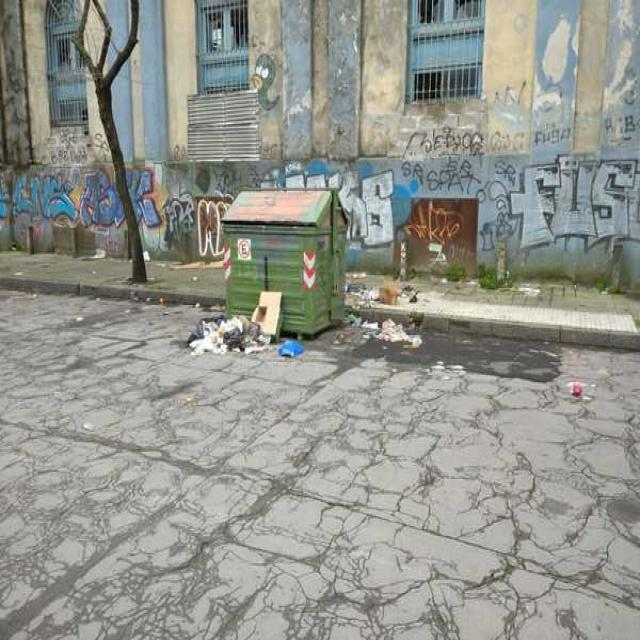garbage: (340, 269, 430, 354), (181, 286, 284, 359), (46, 212, 108, 264), (547, 370, 604, 404), (174, 248, 235, 278), (276, 333, 306, 363)
